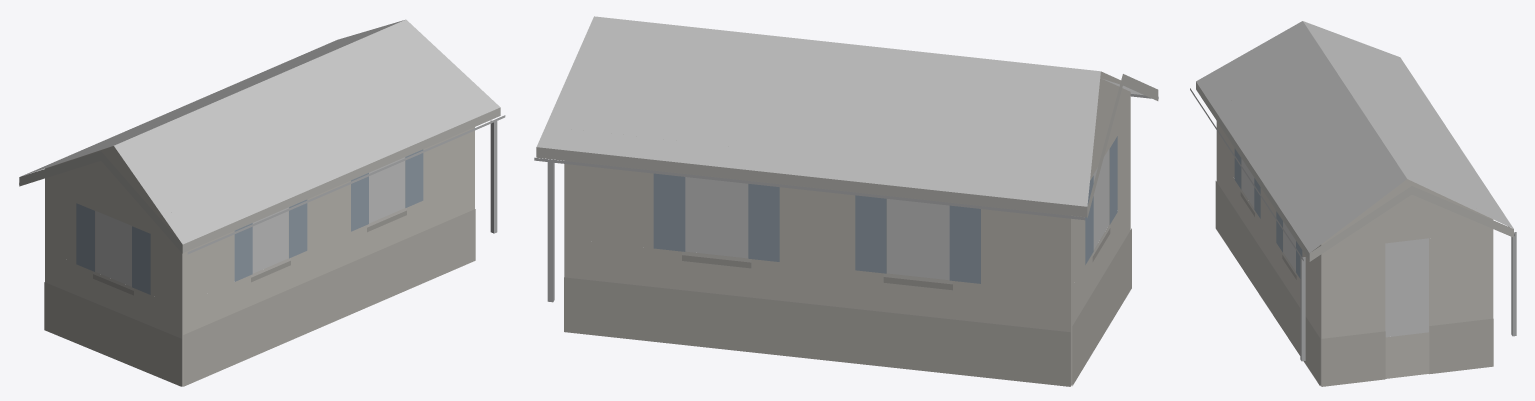
3 renders of one model, left to right at view 1: azimuth 30°, elevation 25°; view 2: azimuth 150°, elevation 25°; view 3: azimuth 270°, elevation 25°, orthographic. The views are drawn at different scales.
Parts seen in each view (by area): view 1: bld; view 2: bld; view 3: bld.
Boxes of the visible parts, box(x1,y1,x2,y2) form: bld: box(19, 19, 505, 386); bld: box(534, 16, 1158, 386); bld: box(1190, 21, 1516, 386).
Size of the model in its own units: 9.69 by 4.52 by 6.86.
